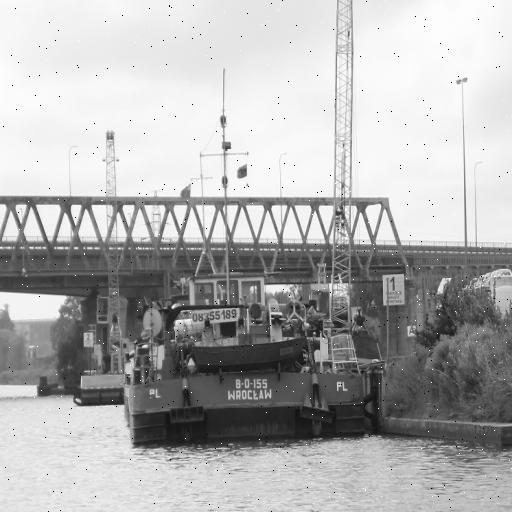tugboat: (120, 268, 382, 452)
